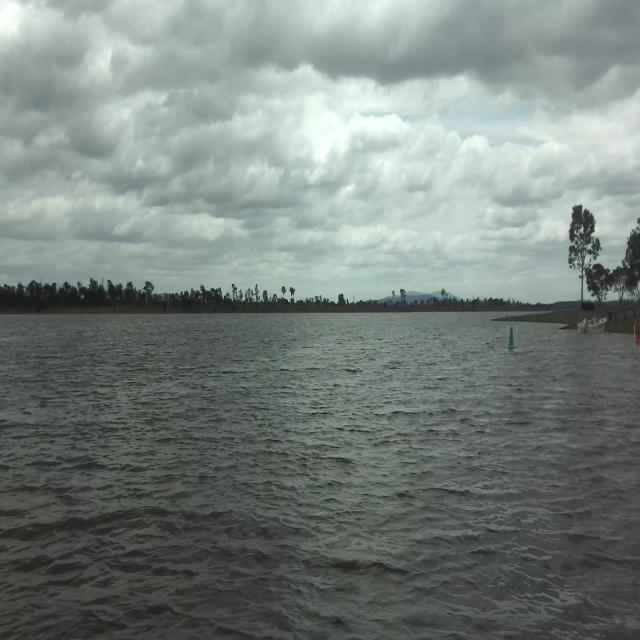Green_Buoy: (501, 313, 525, 365)
